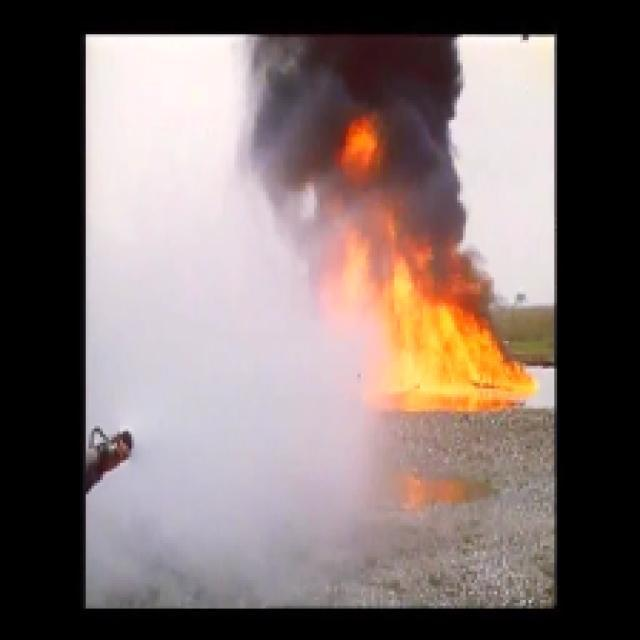Fire: (392, 310, 512, 408)
Smoke: (274, 44, 448, 130), (397, 146, 465, 296)
